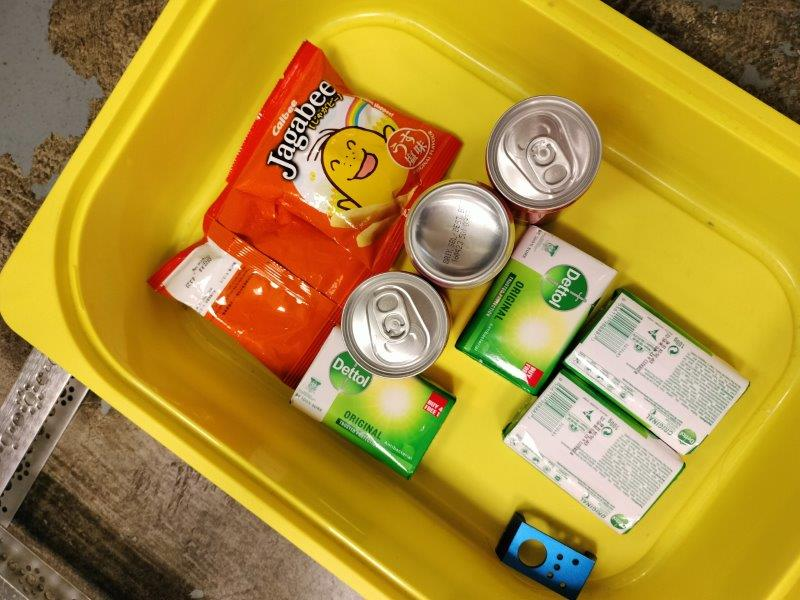Coke: (489, 98, 597, 205), (343, 274, 446, 376), (408, 183, 511, 283)
Dettol: (506, 372, 681, 528), (571, 295, 746, 444), (461, 227, 614, 390), (294, 329, 455, 470)
Jagabee: (231, 43, 459, 272), (154, 186, 388, 390)
